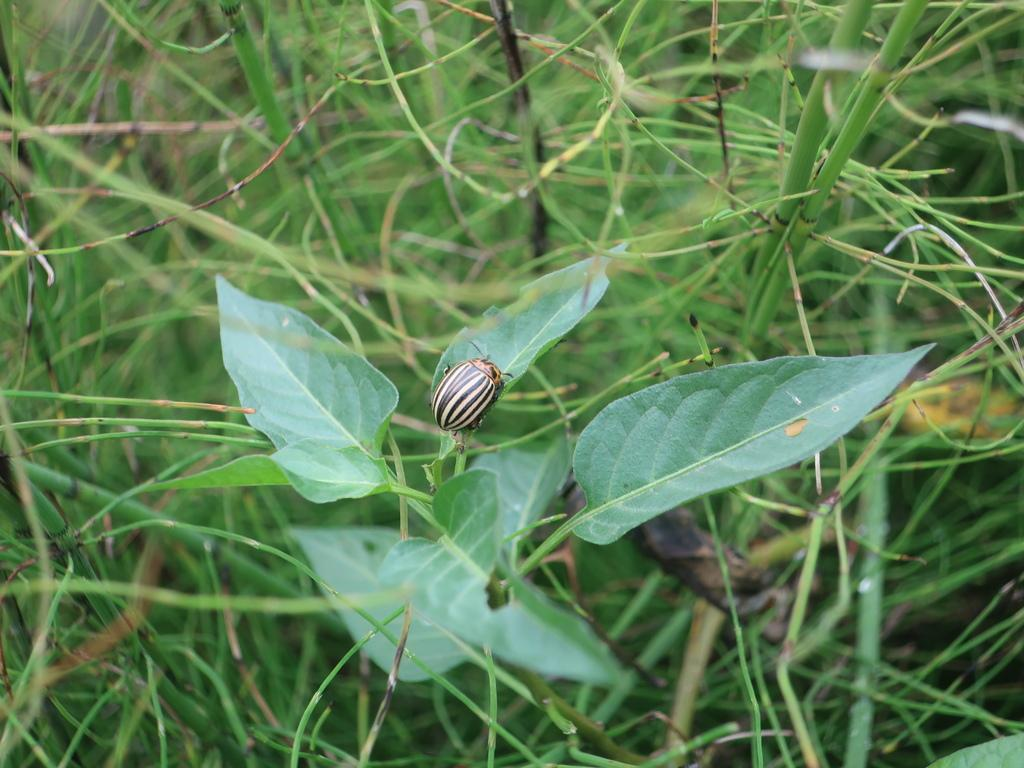potato_beetle: (409, 335, 526, 459)
